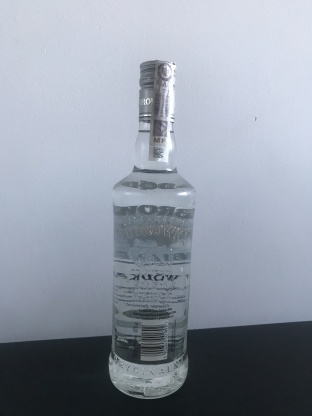nakretka: (136, 56, 178, 125)
